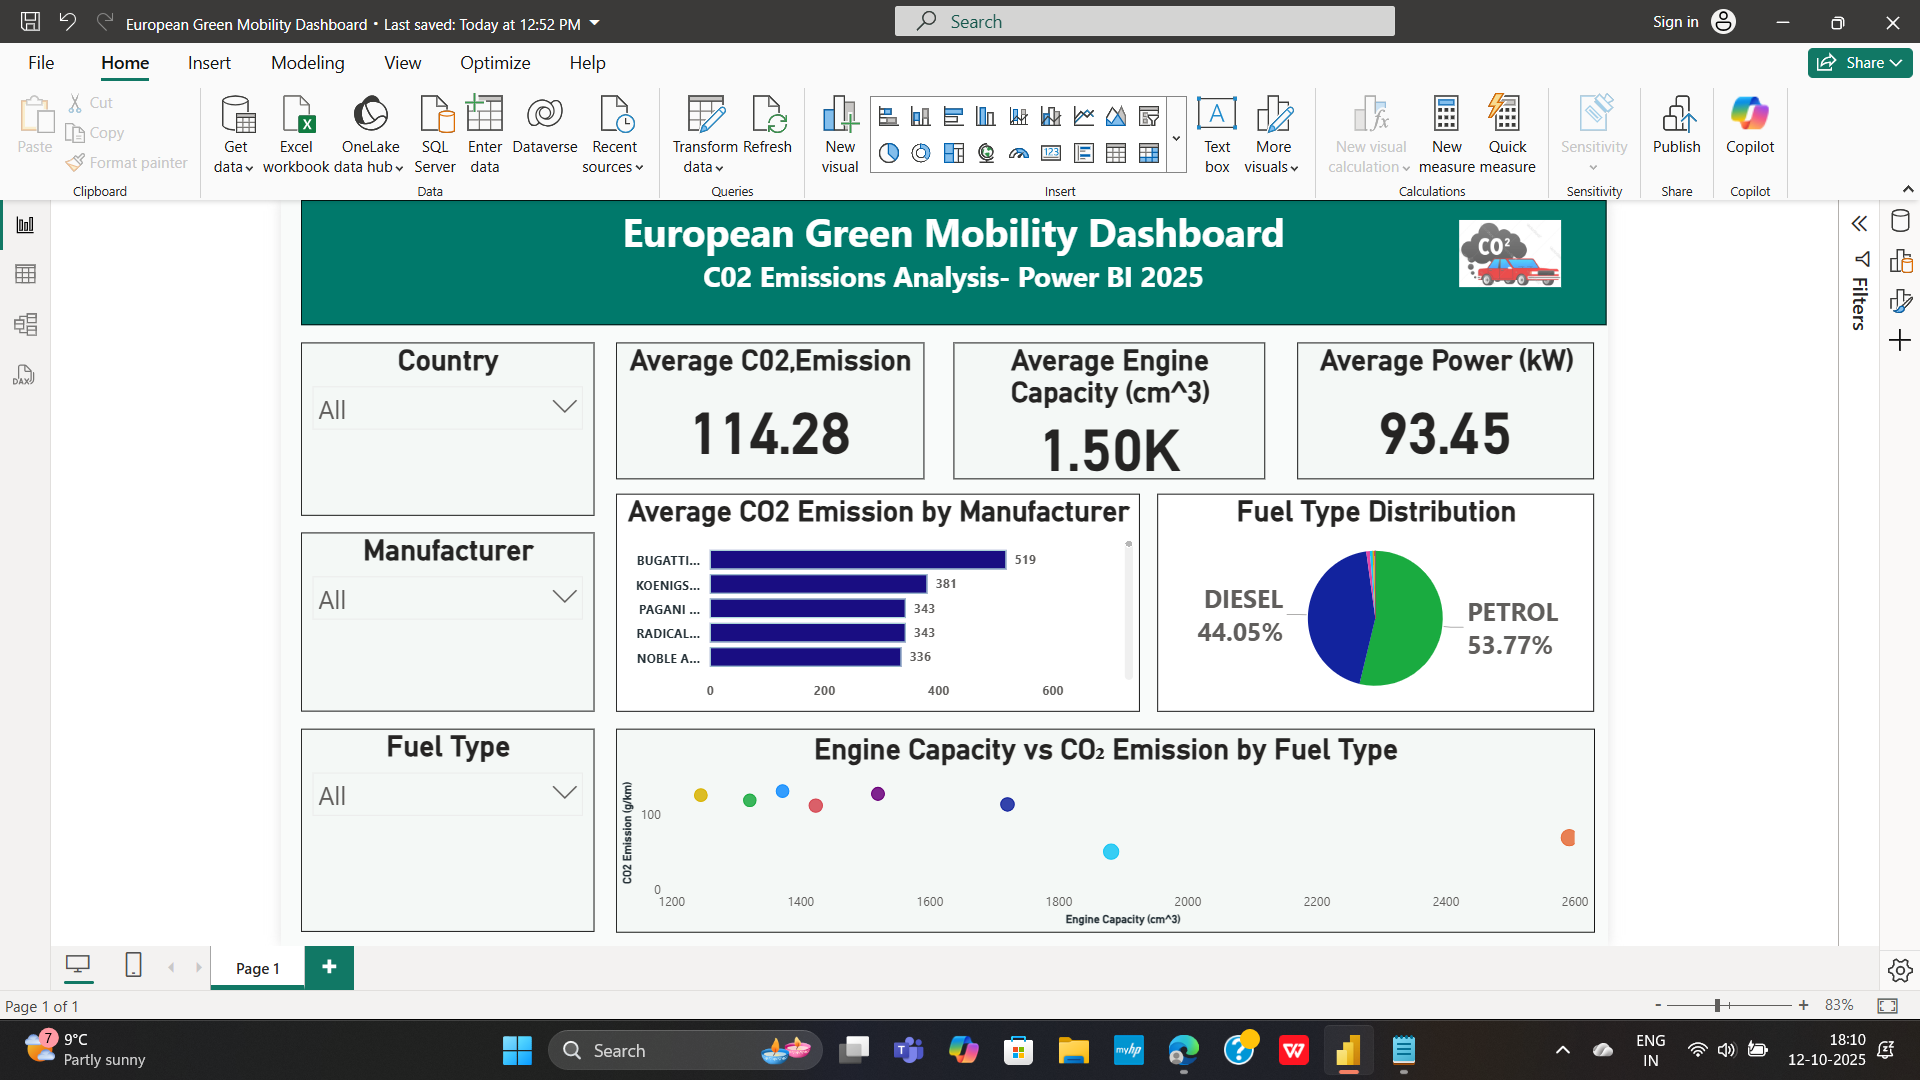

This screenshot's page, from the dashboard's own definition file:
{"tool":"powerbi","page":{"name":"Page 1","canvas":[1280,720],"ordinal":0},"visuals":[{"type":"card","title":"Average C02,Emission","fields":{"Values":["CO2_passenger_cars.Average CO2 emission"]},"box":[323.9,137,297.2,131.7],"z":0},{"type":"textbox","box":[19.6,0,1260.1,121],"z":1000},{"type":"card","title":"Average Power (kW)","fields":{"Values":["CO2_passenger_cars.Average Power(kW)"]},"box":[980.7,137,286.5,131.7],"z":2000},{"type":"card","title":"Average Engine Capacity (cm^3)","fields":{"Values":["CO2_passenger_cars.Average engine capacity"]},"box":[649.6,137,300.8,131.7],"z":3000},{"type":"slicer","title":"Country","fields":{"Values":["CO2_passenger_cars.Country"]},"box":[19.6,137,283,167.3],"z":4000},{"type":"slicer","title":"Fuel Type","fields":{"Values":["CO2_passenger_cars.Fuel Type"]},"box":[19.6,510.8,283,195.8],"z":5000},{"type":"slicer","title":"Manufacturer","fields":{"Values":["CO2_passenger_cars.Manufacturer"]},"box":[19.6,320.4,283,172.6],"z":6000},{"type":"image","box":[1105.2,14.2,162,74.8],"z":7000},{"type":"clusteredBarChart","title":"Average CO2 Emission by Manufacturer","fields":{"Category":["CO2_passenger_cars.Manufacturer"],"Y":["CO2_passenger_cars.Average CO2 emission"]},"box":[323.9,283,505.5,210],"z":8000},{"type":"pieChart","title":"Fuel Type Distribution","fields":{"Category":["CO2_passenger_cars.Fuel Type"],"Y":["CountNonNull(CO2_passenger_cars.Fuel Type)"]},"box":[845.4,283,421.8,210],"z":9000},{"type":"scatterChart","title":"Engine Capacity vs CO₂ Emission by Fuel Type","fields":{"X":["Avg(CO2_passenger_cars.ec (cm3))"],"Y":["Avg(CO2_passenger_cars.Enedc (g/km))"],"Series":["CO2_passenger_cars.Fuel Type"],"Size":["Avg(CO2_passenger_cars.m (kg))"]},"box":[323.9,510.8,943.3,195.8],"z":10000}]}

Visuals, with their boxes on the page's 1280x720 design canvas (x1, y1, x2, y2). These are canvas units, not pixel positions in the 1920x1080 screenshot, which may show the page scaled, cropped or inside an application window:
"Average C02,Emission" card: <region>324, 137, 621, 269</region>
textbox: <region>20, 0, 1280, 121</region>
"Average Power (kW)" card: <region>981, 137, 1267, 269</region>
"Average Engine Capacity (cm^3)" card: <region>650, 137, 950, 269</region>
"Country" slicer: <region>20, 137, 303, 304</region>
"Fuel Type" slicer: <region>20, 511, 303, 707</region>
"Manufacturer" slicer: <region>20, 320, 303, 493</region>
image: <region>1105, 14, 1267, 89</region>
"Average CO2 Emission by Manufacturer" clusteredBarChart: <region>324, 283, 829, 493</region>
"Fuel Type Distribution" pieChart: <region>845, 283, 1267, 493</region>
"Engine Capacity vs CO₂ Emission by Fuel Type" scatterChart: <region>324, 511, 1267, 707</region>
